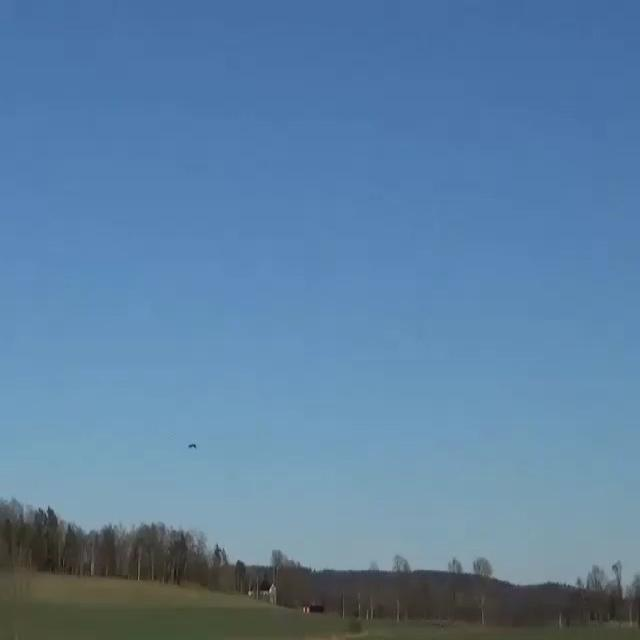bird: (185, 436, 201, 455)
